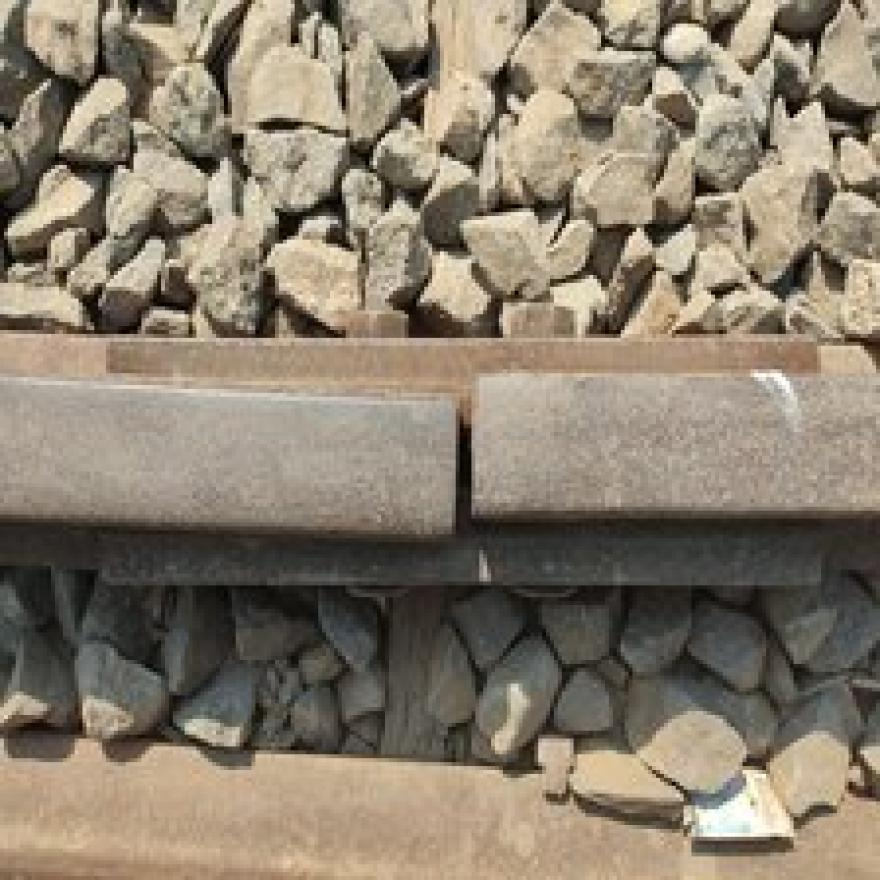railway-gap: (277, 297, 683, 695)
